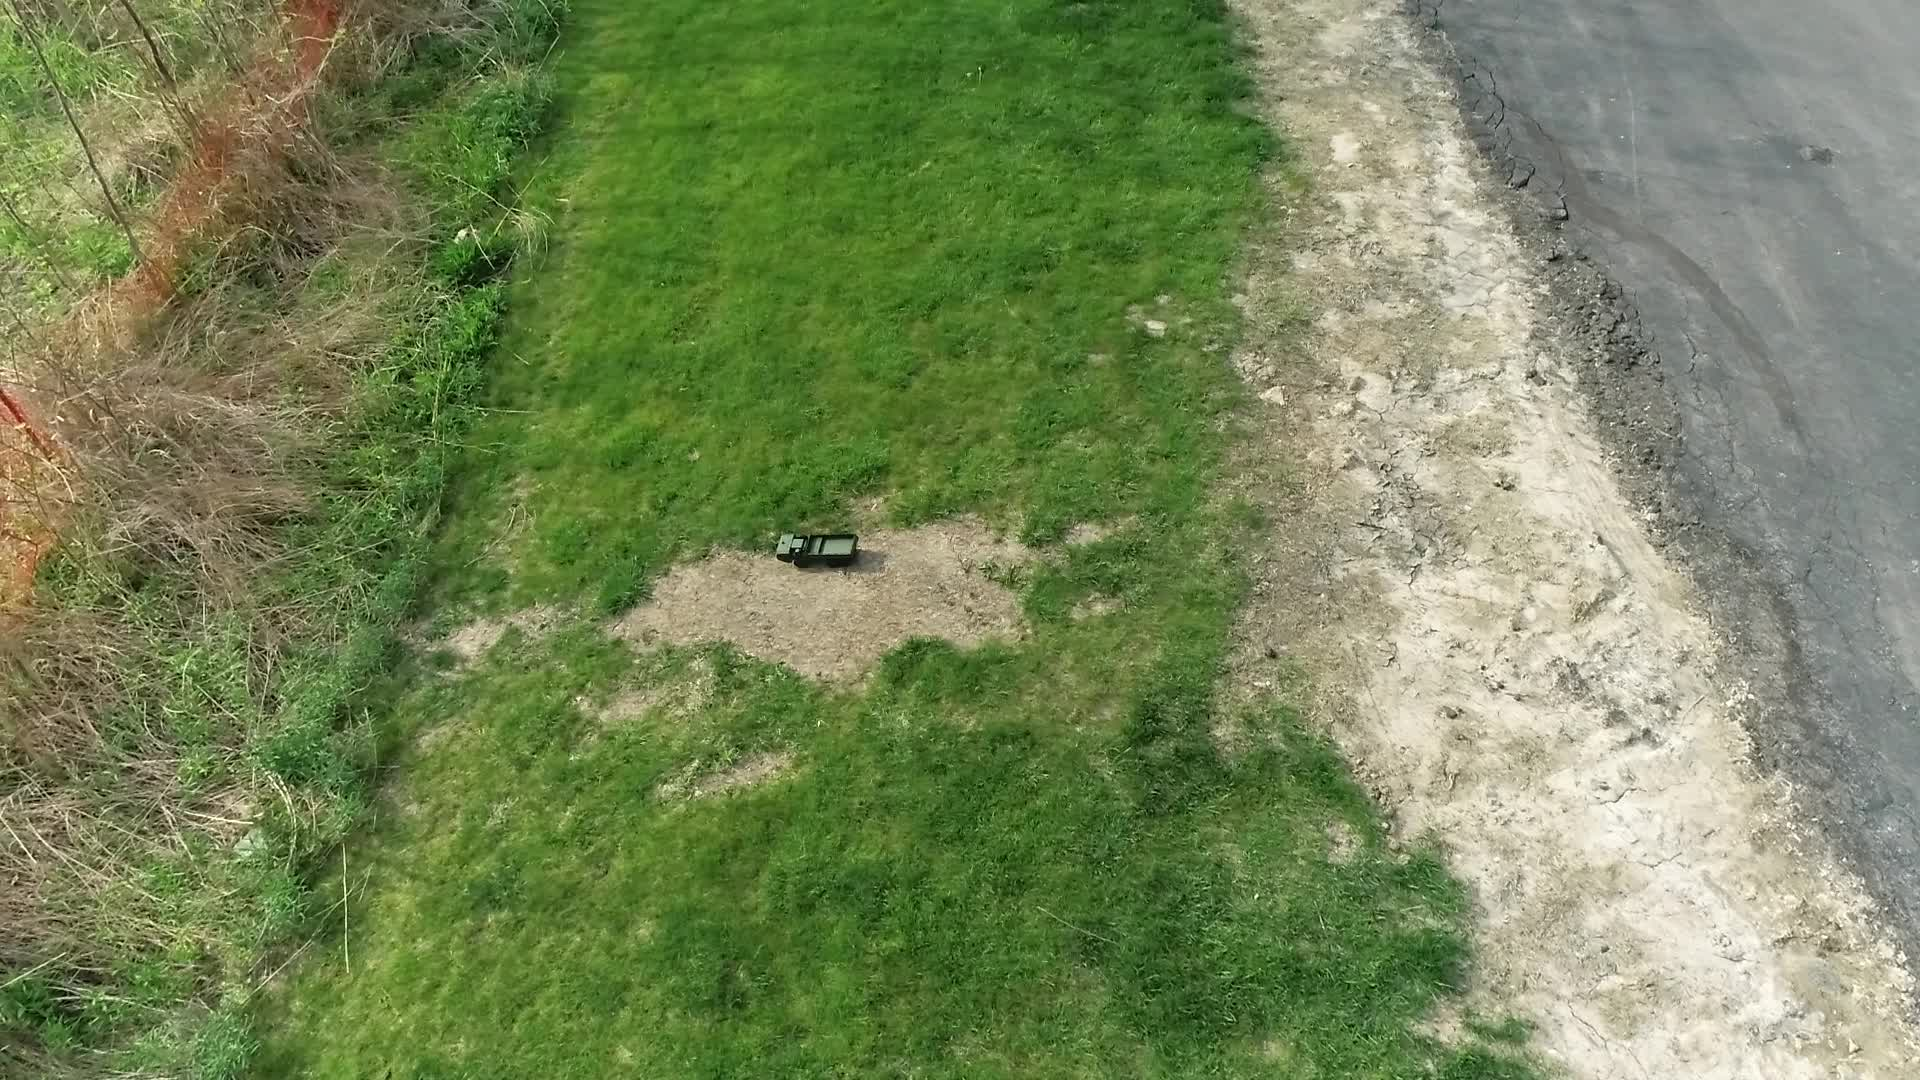transporter9: (775, 531, 861, 568)
